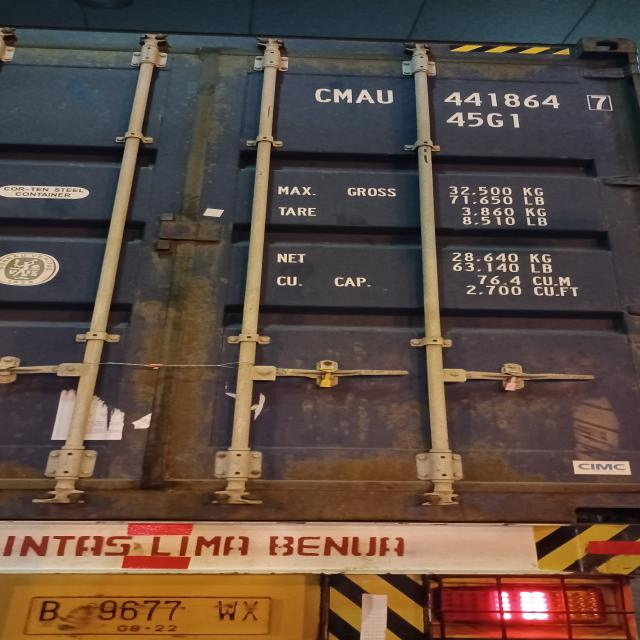seal: (466, 366, 554, 402), (306, 364, 352, 398)
